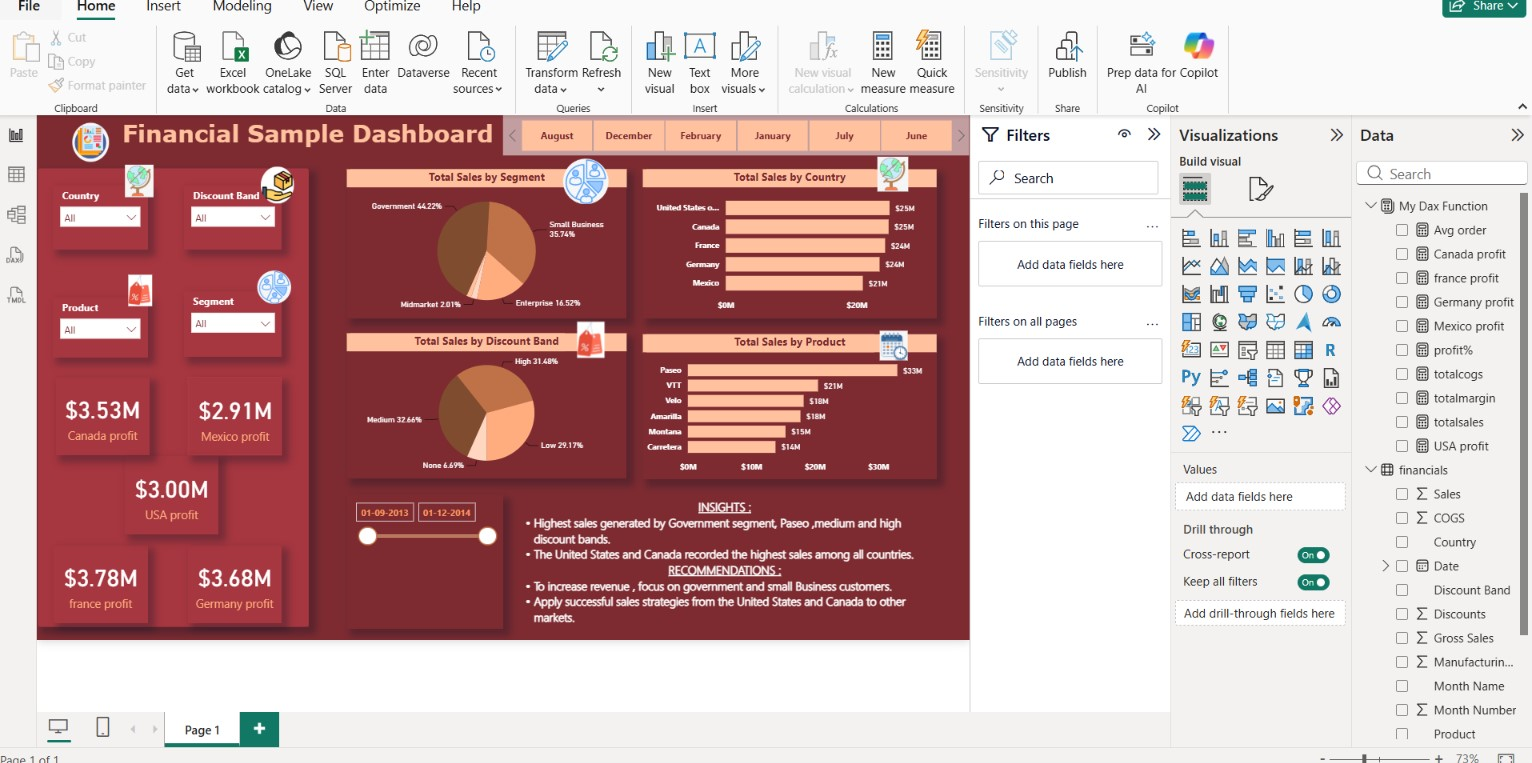

The page's visual inventory and layout, read from the dashboard file:
{"tool":"powerbi","page":{"name":"Page 1","canvas":[1280,720],"ordinal":0},"visuals":[{"type":"textbox","box":[90.7,0,562.7,57.1],"z":0},{"type":"barChart","title":"Total Sales by Country","fields":{"Category":["financials.Country"],"Y":["My Dax Function.totalsales"]},"box":[831.6,74.1,403.4,204.5],"z":1000},{"type":"clusteredBarChart","title":"Total Sales by Product","fields":{"Category":["financials.Product"],"Y":["My Dax Function.totalsales"]},"box":[831.6,300.5,403.4,199],"z":2000},{"type":"pieChart","title":"Total Sales by Segment","fields":{"Category":["financials.Segment"],"Y":["My Dax Function.totalsales"]},"box":[425.4,74.1,384.2,204.5],"z":3000},{"type":"pieChart","title":"Total Sales by Discount Band","fields":{"Category":["financials.Discount Band"],"Y":["My Dax Function.totalsales"]},"box":[425.4,299.1,384.2,199],"z":4000},{"type":"slicer","fields":{"Values":["financials.Date"]},"box":[425.4,521.1,214.1,183.1],"z":5000},{"type":"shape","box":[1.4,73.2,371.8,629.6],"z":6000},{"type":"slicer","fields":{"Values":["financials.Country"]},"box":[22,96.1,130.4,87.8],"z":7000},{"type":"slicer","fields":{"Values":["financials.Segment"]},"box":[201.7,241.5,134.5,90.6],"z":8000},{"type":"slicer","fields":{"Values":["financials.Discount Band"]},"box":[201.7,96.1,134.5,87.8],"z":9000},{"type":"slicer","fields":{"Values":["financials.Product"]},"box":[22,249.7,130.4,82.3],"z":10000},{"type":"card","fields":{"Values":["My Dax Function.germny profit"]},"box":[207.2,590.1,129,107],"z":11000},{"type":"slicer","fields":{"Values":["financials.Month Name"]},"box":[640,0,640,55.4],"z":12000},{"type":"image","box":[1143.7,52.1,63.4,57.7],"z":13000},{"type":"image","box":[1133.5,290.9,85.1,50.8],"z":14000},{"type":"image","box":[728.2,278.9,63.4,59.2],"z":15000},{"type":"image","box":[715.5,54.9,76.1,71.8],"z":16000},{"type":"image","box":[297.8,65.9,64.5,60.4],"z":17000},{"type":"image","box":[109.8,63.1,61.7,54.9],"z":18000},{"type":"image","box":[120.8,214.1,42.5,53.5],"z":19000},{"type":"image","box":[297.8,204.5,56.3,63.1],"z":20000},{"type":"image","box":[43.7,0,60.5,73.9],"z":21000},{"type":"textbox","box":[653.2,521.4,581.8,182.5],"z":22000},{"type":"card","fields":{"Values":["My Dax Function.france profit"]},"box":[23.3,590.1,129,107],"z":23000},{"type":"card","fields":{"Values":["My Dax Function.Canada profit"]},"box":[26.1,359.5,129,107],"z":24000},{"type":"card","fields":{"Values":["My Dax Function.Mexico profit"]},"box":[207.2,359.5,129,107],"z":25000},{"type":"card","fields":{"Values":["My Dax Function.USA profit"]},"box":[120.8,467.9,129,107],"z":26000}]}

Visuals, with their boxes on the page's 1280x720 design canvas (x1, y1, x2, y2). These are canvas units, not pixel positions in the 1532x763 screenshot, which may show the page scaled, cropped or inside an application window:
textbox: box=[91, 0, 653, 57]
"Total Sales by Country" barChart: box=[832, 74, 1235, 279]
"Total Sales by Product" clusteredBarChart: box=[832, 300, 1235, 500]
"Total Sales by Segment" pieChart: box=[425, 74, 810, 279]
"Total Sales by Discount Band" pieChart: box=[425, 299, 810, 498]
slicer - financials.Date: box=[425, 521, 640, 704]
shape: box=[1, 73, 373, 703]
slicer - financials.Country: box=[22, 96, 152, 184]
slicer - financials.Segment: box=[202, 242, 336, 332]
slicer - financials.Discount Band: box=[202, 96, 336, 184]
slicer - financials.Product: box=[22, 250, 152, 332]
card - My Dax Function.germny profit: box=[207, 590, 336, 697]
slicer - financials.Month Name: box=[640, 0, 1280, 55]
image: box=[1144, 52, 1207, 110]
image: box=[1134, 291, 1219, 342]
image: box=[728, 279, 792, 338]
image: box=[716, 55, 792, 127]
image: box=[298, 66, 362, 126]
image: box=[110, 63, 172, 118]
image: box=[121, 214, 163, 268]
image: box=[298, 204, 354, 268]
image: box=[44, 0, 104, 74]
textbox: box=[653, 521, 1235, 704]
card - My Dax Function.france profit: box=[23, 590, 152, 697]
card - My Dax Function.Canada profit: box=[26, 360, 155, 466]
card - My Dax Function.Mexico profit: box=[207, 360, 336, 466]
card - My Dax Function.USA profit: box=[121, 468, 250, 575]
